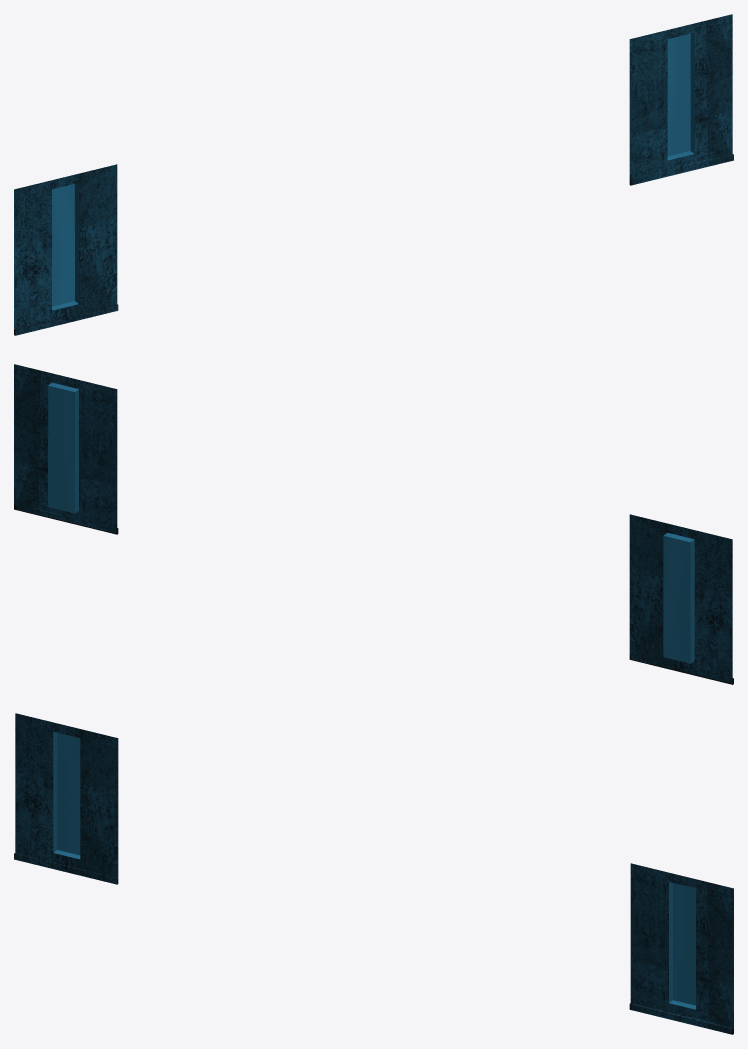
File: yanarkalık.fbx
3 renders of one model, top to bottom at view 1: azimuth 30°, elevation 25°; view 2: azimuth 150°, elevation 25°; view 3: azimuth 330°, elevation 25°, orthographic.
Parts seen in each view (by area): view 1: Plane; view 2: Plane; view 3: Plane.
Part boxes in pixels (x1,y1,x2,y2): Plane: [14, 14, 733, 335]; Plane: [14, 364, 733, 684]; Plane: [14, 713, 733, 1034].
Bounding box in the file's own units: 2400 × 464 × 30.89.
